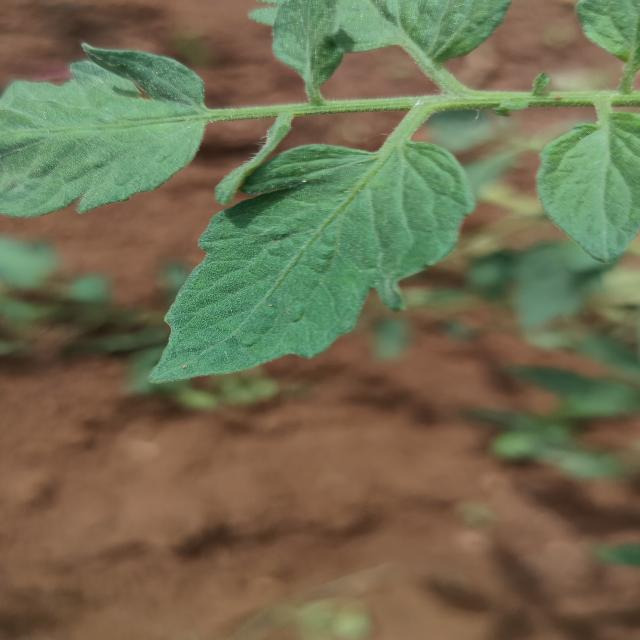tomato_healthy: (161, 89, 486, 366), (0, 60, 207, 217), (538, 100, 640, 262), (377, 0, 510, 63)
